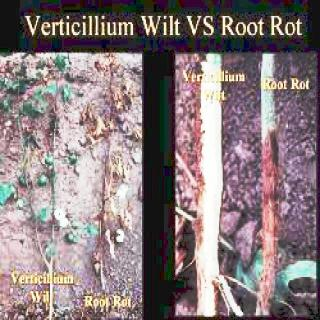wilt: (204, 111, 222, 259), (39, 237, 57, 282)
